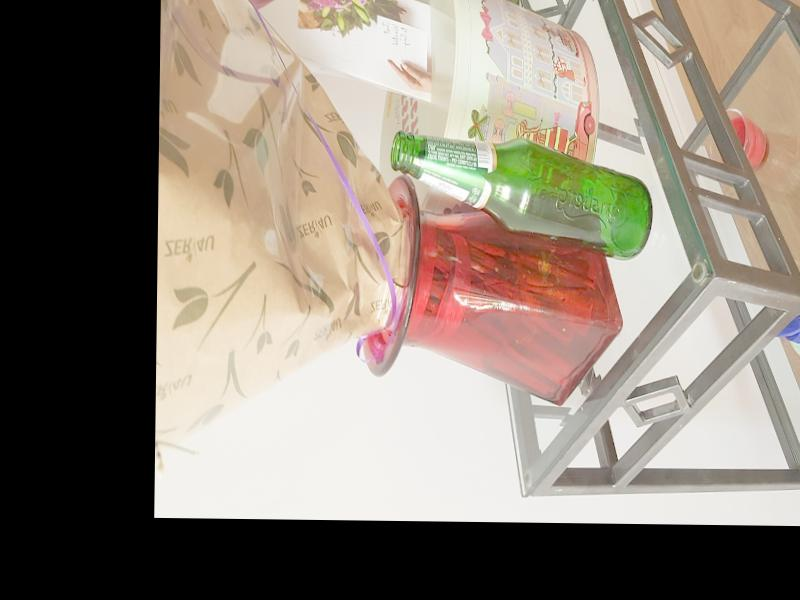Beer: (388, 133, 654, 258)
